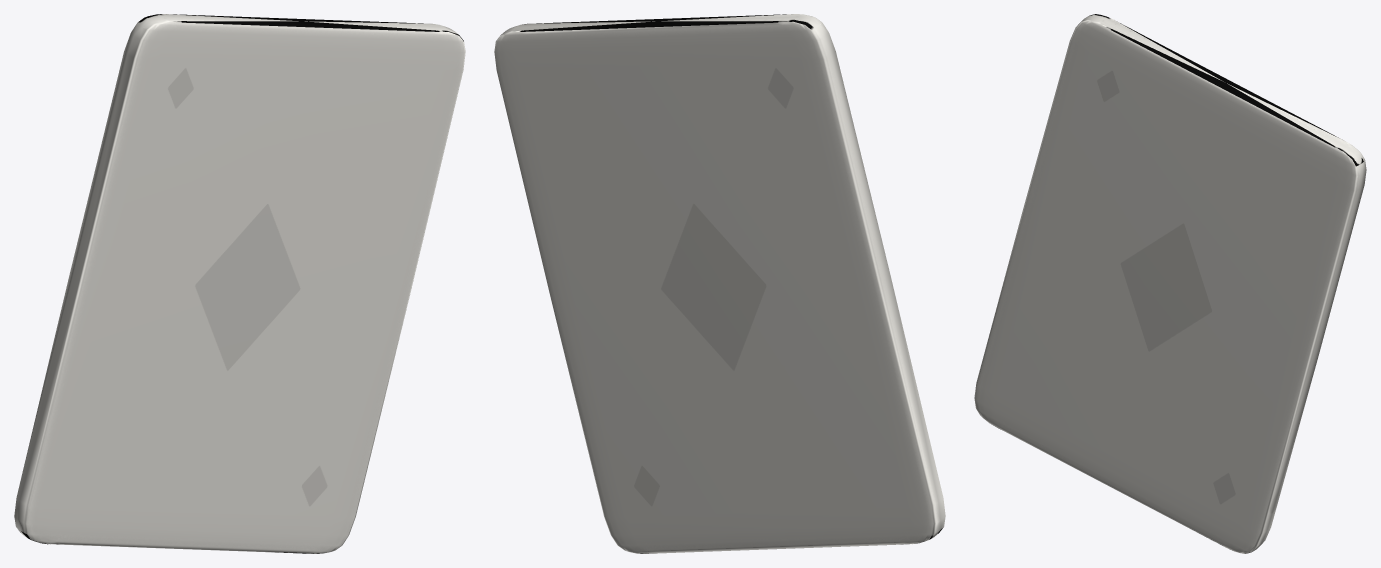
The model's file is Mascarada_Baston_Armadura.fbx.
The picture shows the model from 3 angles, left to right: view 1: azimuth 30°, elevation 25°; view 2: azimuth 150°, elevation 25°; view 3: azimuth 330°, elevation 25°; orthographic projection. The views are drawn at different scales.
Visible parts, largest first — view 1: Mascarada_Baston_Armadura; view 2: Mascarada_Baston_Armadura; view 3: Mascarada_Baston_Armadura.
Part boxes in pixels (box(x1,y1,x2,y2)): Mascarada_Baston_Armadura: box(14, 14, 465, 553); Mascarada_Baston_Armadura: box(494, 14, 945, 553); Mascarada_Baston_Armadura: box(974, 14, 1366, 553).
Bounding box in the file's own units: 0.8739 × 1.08 × 0.0429.
